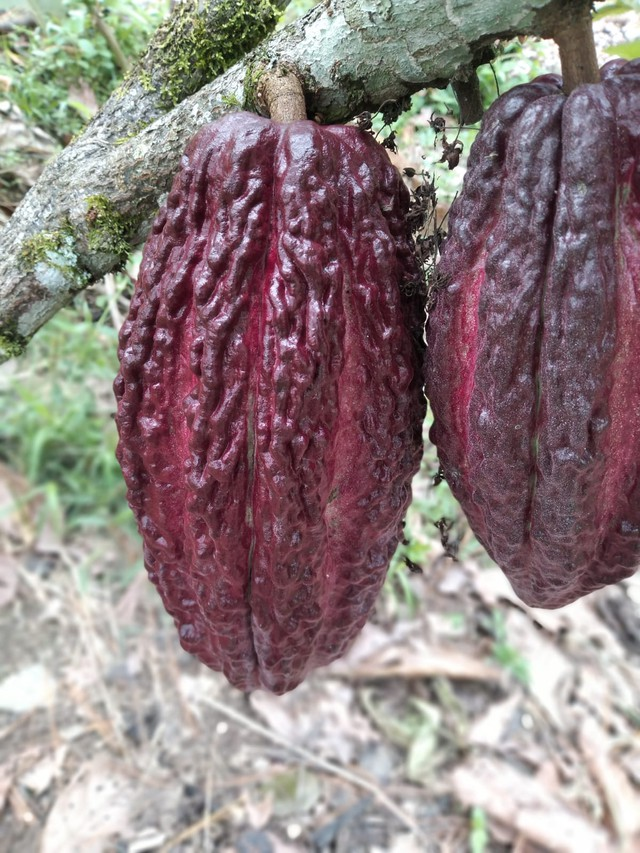Health: (92, 96, 440, 715), (428, 55, 635, 615)
